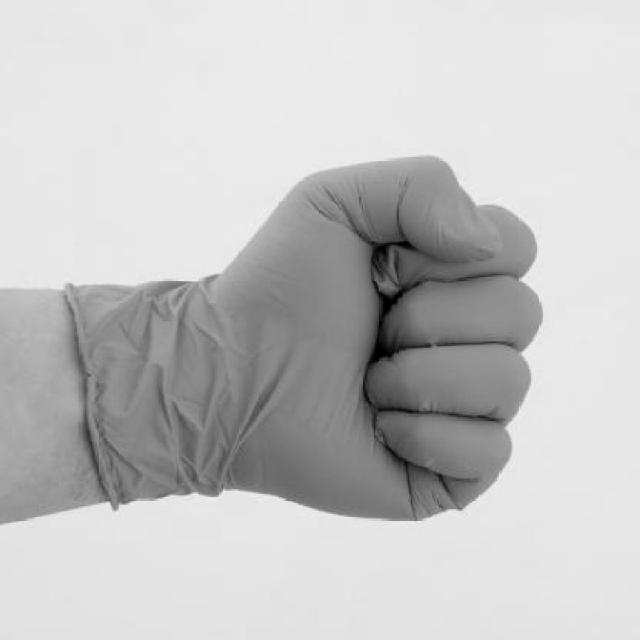hand_glove: (203, 153, 543, 522)
